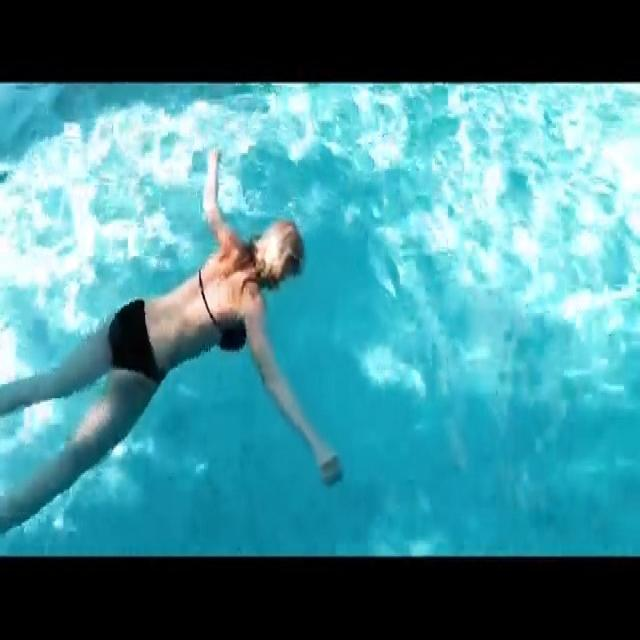Drowning: (5, 146, 358, 522)
